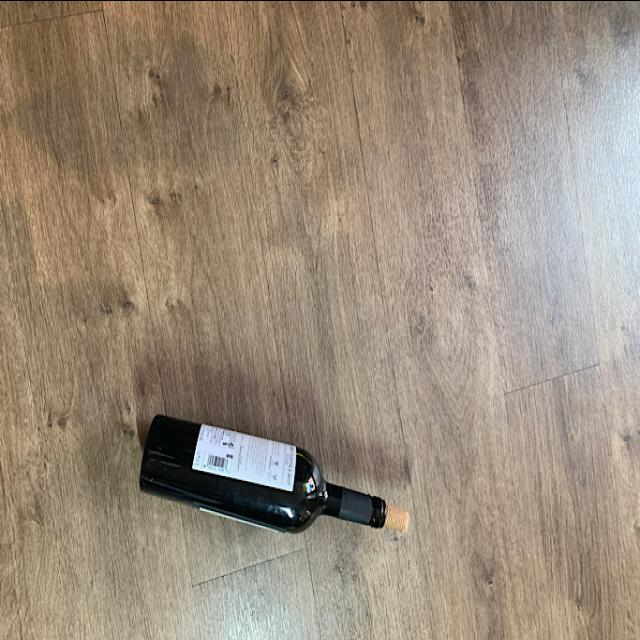Glass Bottle: (139, 410, 395, 535)
